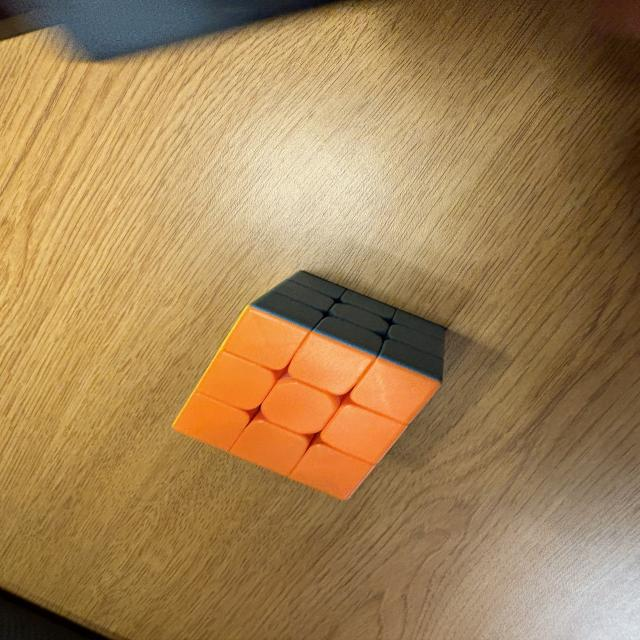Rubiks Cube: (172, 270, 445, 502)
